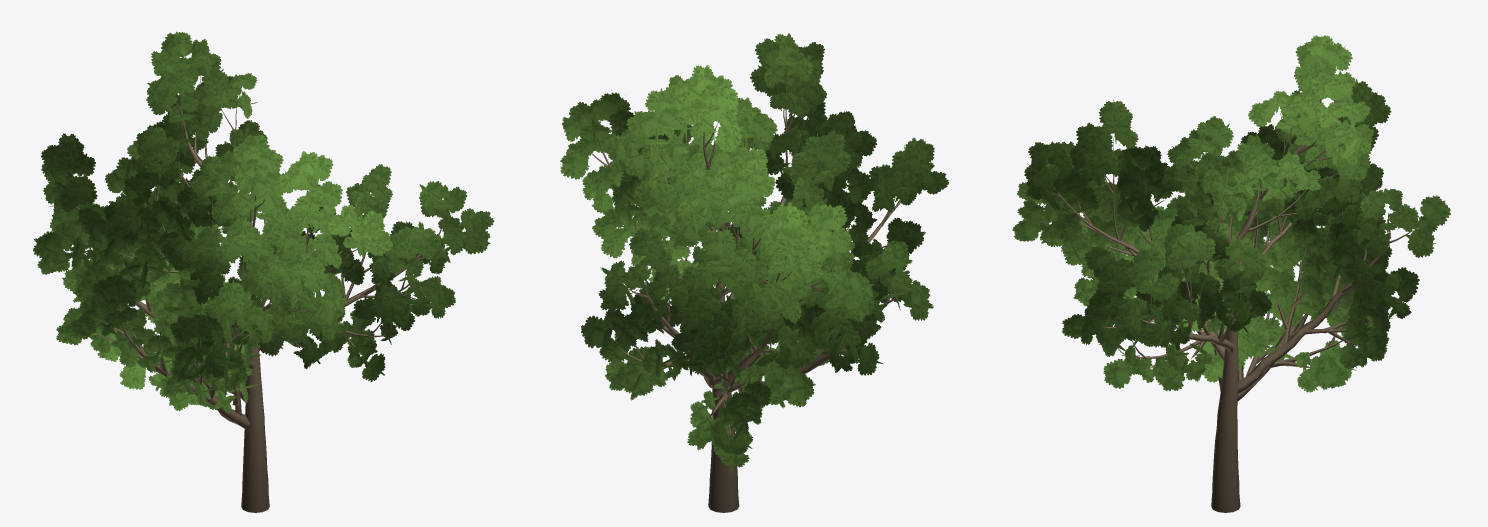
Rendered from roble-alto.glb.
3 renders of one model, left to right at view 1: azimuth 30°, elevation 25°; view 2: azimuth 150°, elevation 25°; view 3: azimuth 270°, elevation 25°, orthographic. The views are drawn at different scales.
Parts seen in each view (by area): view 1: roble; view 2: roble; view 3: roble.
Boxes of the visible parts, bbox=[...] form: roble: bbox=[33, 31, 494, 512]; roble: bbox=[560, 33, 948, 512]; roble: bbox=[1012, 35, 1450, 512].
Bounding box in the file's own units: 14.04 × 15 × 13.73.
2 materials, 1 textured.
